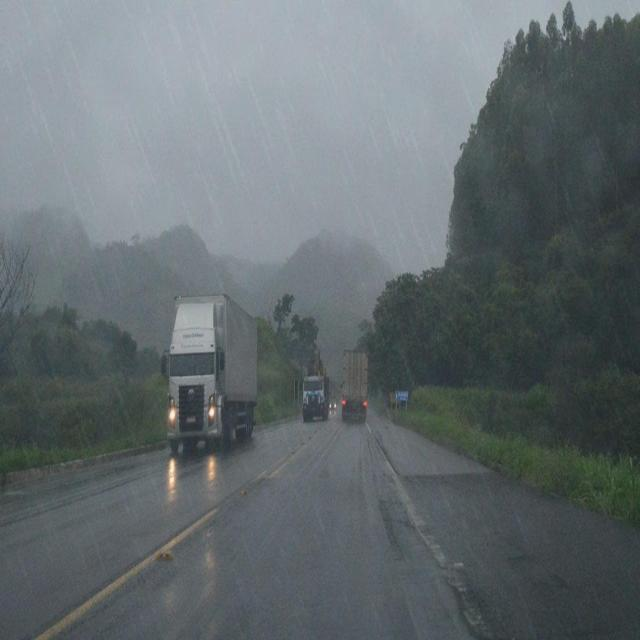Car: (329, 392, 338, 415)
Truck: (164, 289, 261, 463), (340, 340, 371, 424), (303, 348, 328, 421)
